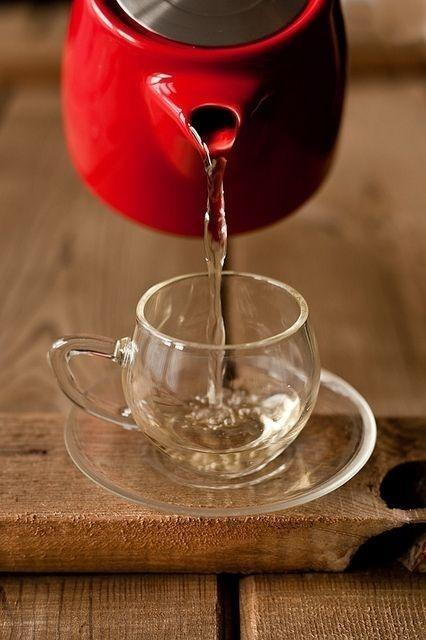glass-mug: (49, 265, 325, 489)
